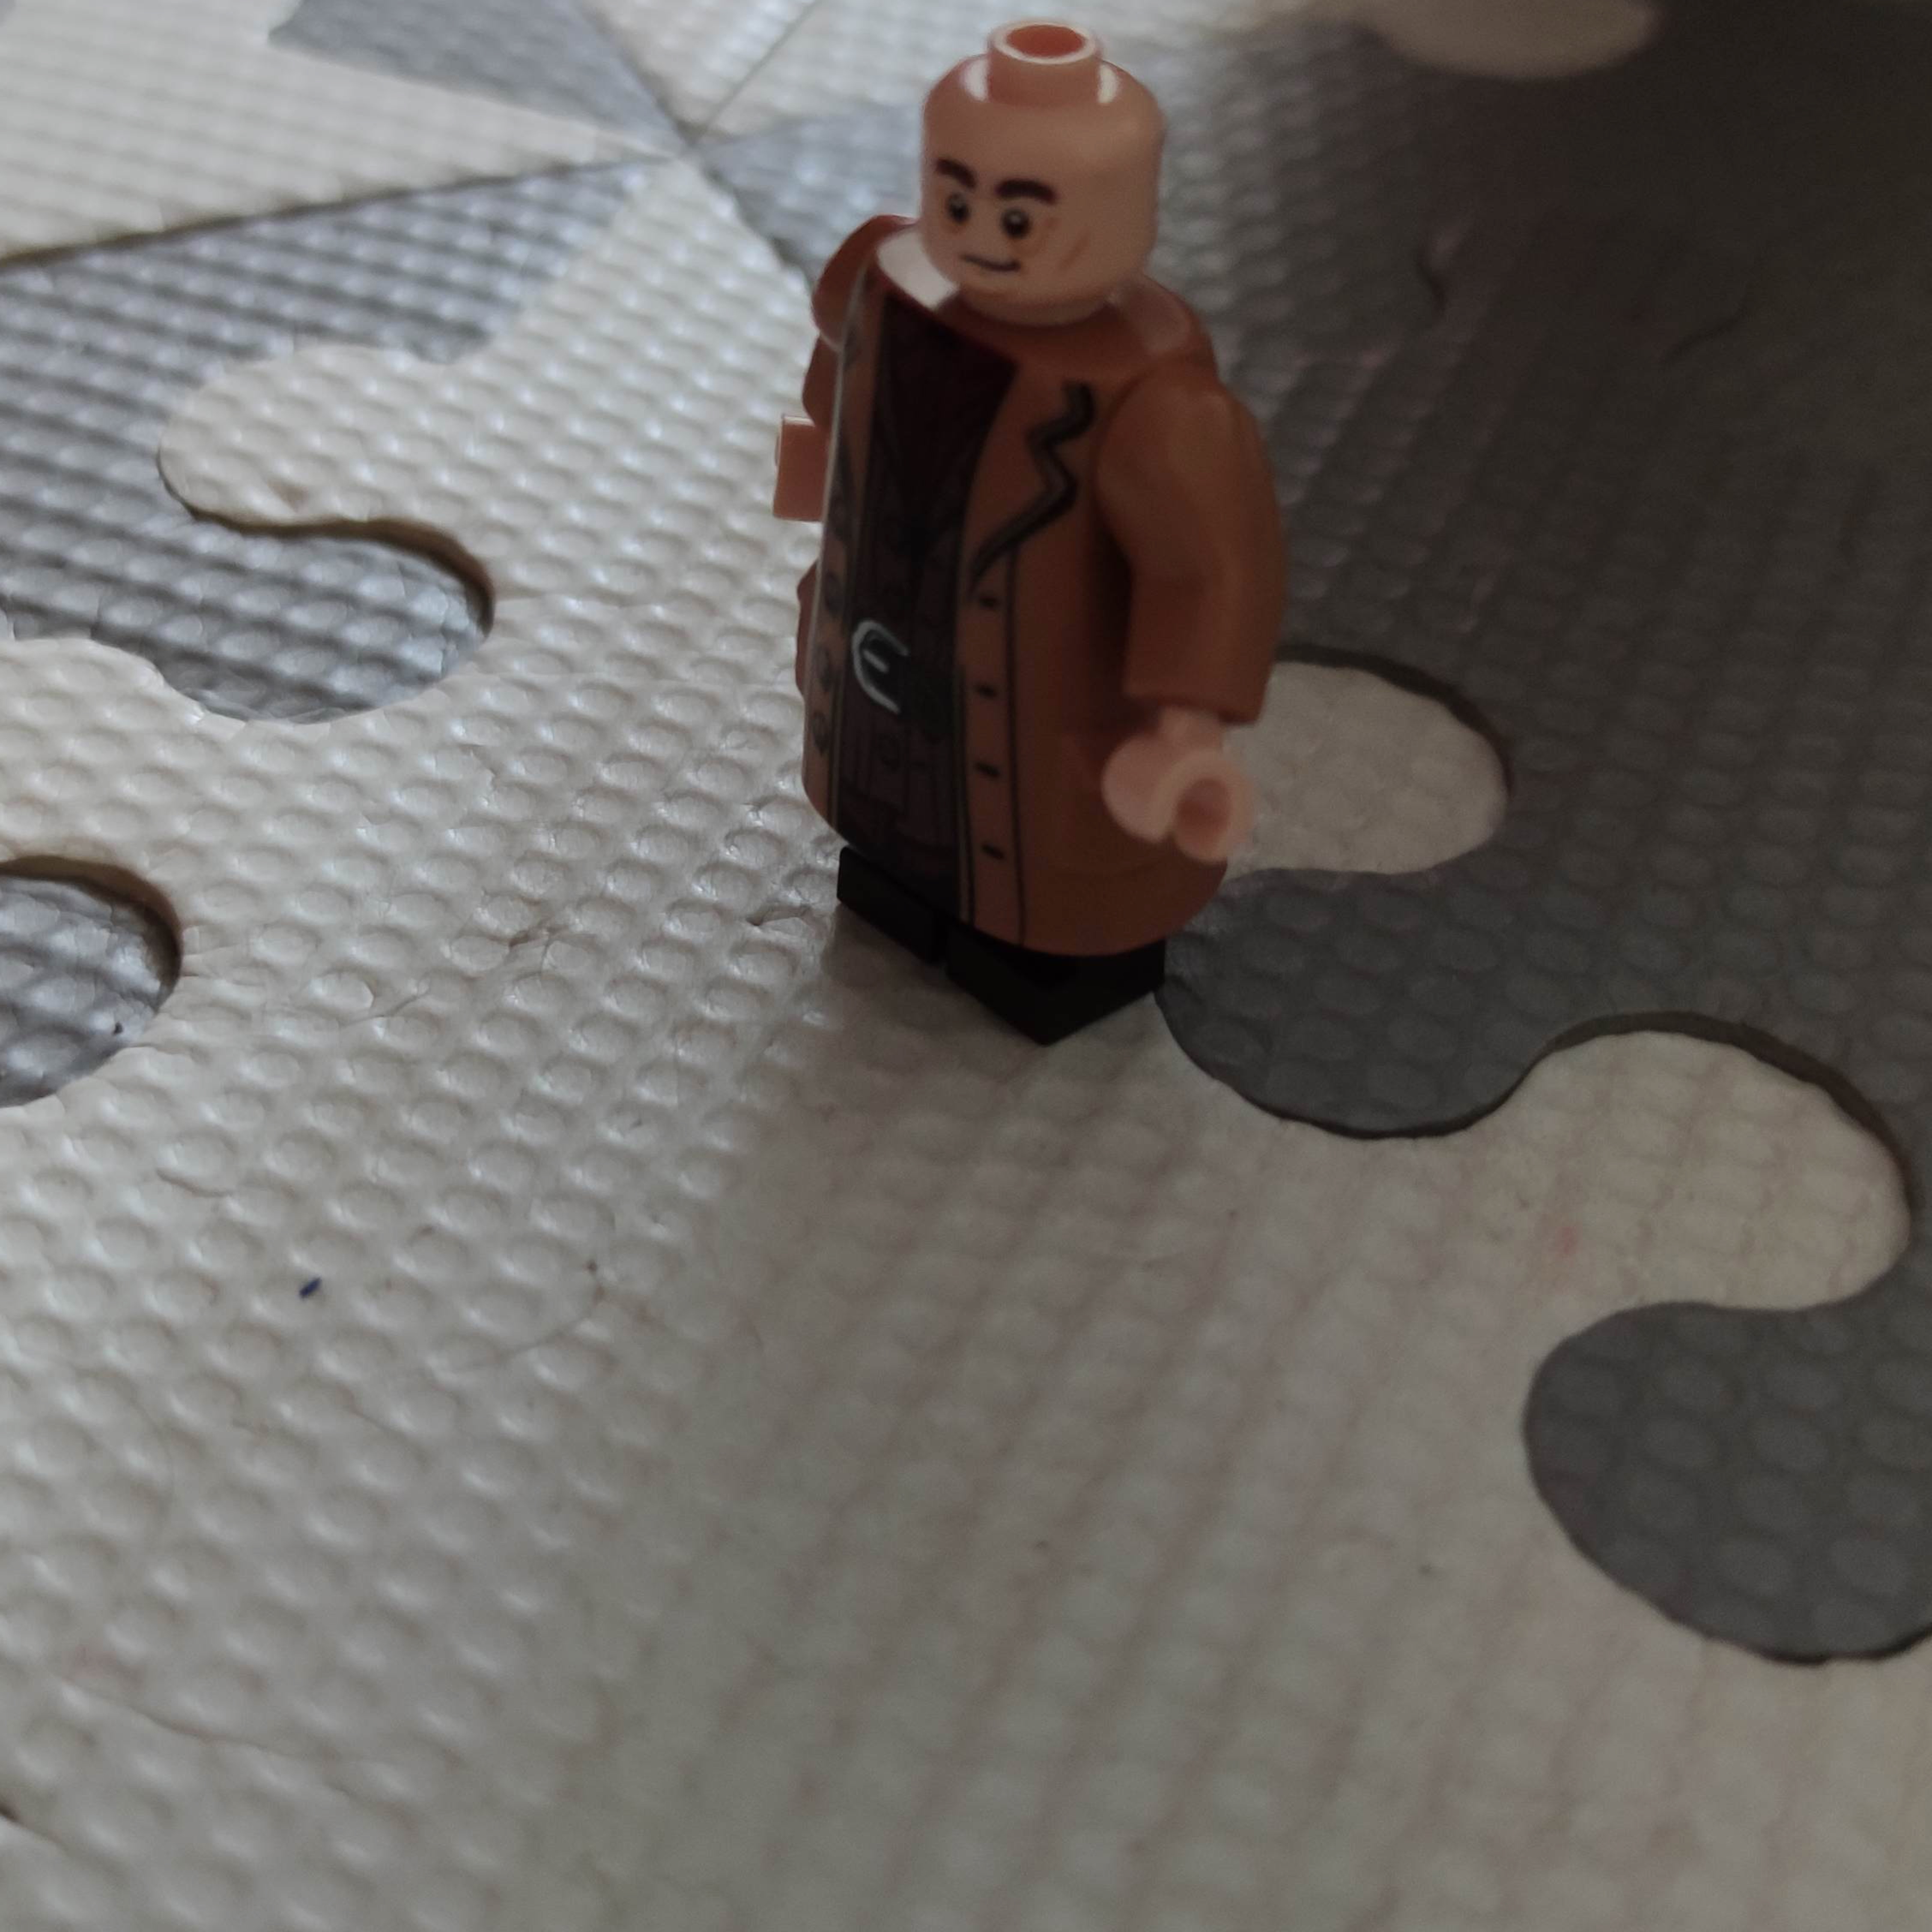lego: (784, 23, 1286, 1047)
